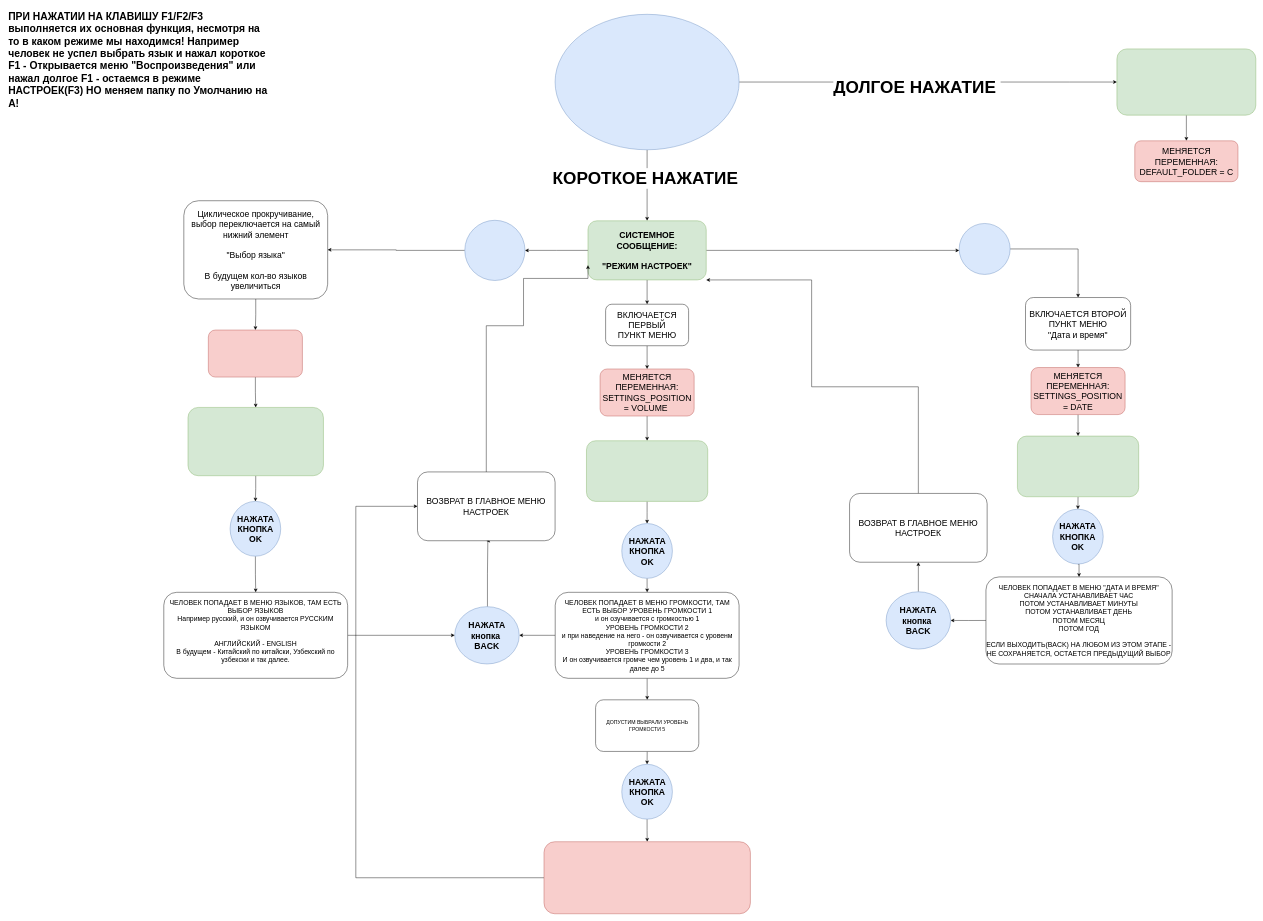
Some shapes in this 1263 by 921 pixel diagram are drawn without their labels. Here are the shapes that lost their labels. From the top down, the box of each, then its label:
(555, 14, 739, 150): F3
(1116, 49, 1256, 115): СИСТЕМНОЕ СООБЩЕНИЕ: "ВЫБРАНА ПАПКА В ПО УМОЛЧАНИЮ"
(464, 220, 525, 280): Нажата СТРЕЛКА ВВЕРХ
(959, 223, 1010, 274): НАЖАТА СТРЕЛКА ВНИЗ
(208, 330, 302, 377): МЕНЯЕТСЯ ПЕРЕМЕННАЯ: SETTINGS_POSITION = LANGUAGE
(188, 407, 323, 476): СИСТЕМНОЕ СООБЩЕНИЕ(изменения языка ): "русский английский "
(586, 440, 708, 501): СИСТЕМНОЕ СООБЩЕНИЕ: "ГРОМКОСТЬ СИСТЕМНЫХ СООБЩЕНИЙ"
(1017, 436, 1139, 497): СИСТЕМНОЕ СООБЩЕНИЕ: " Дата и время "
(544, 841, 750, 914): МЕНЯЕТСЯ ПЕРЕМЕННАЯ: VOLUME_OF_SYSTEM_MESSAGES = int(5)
